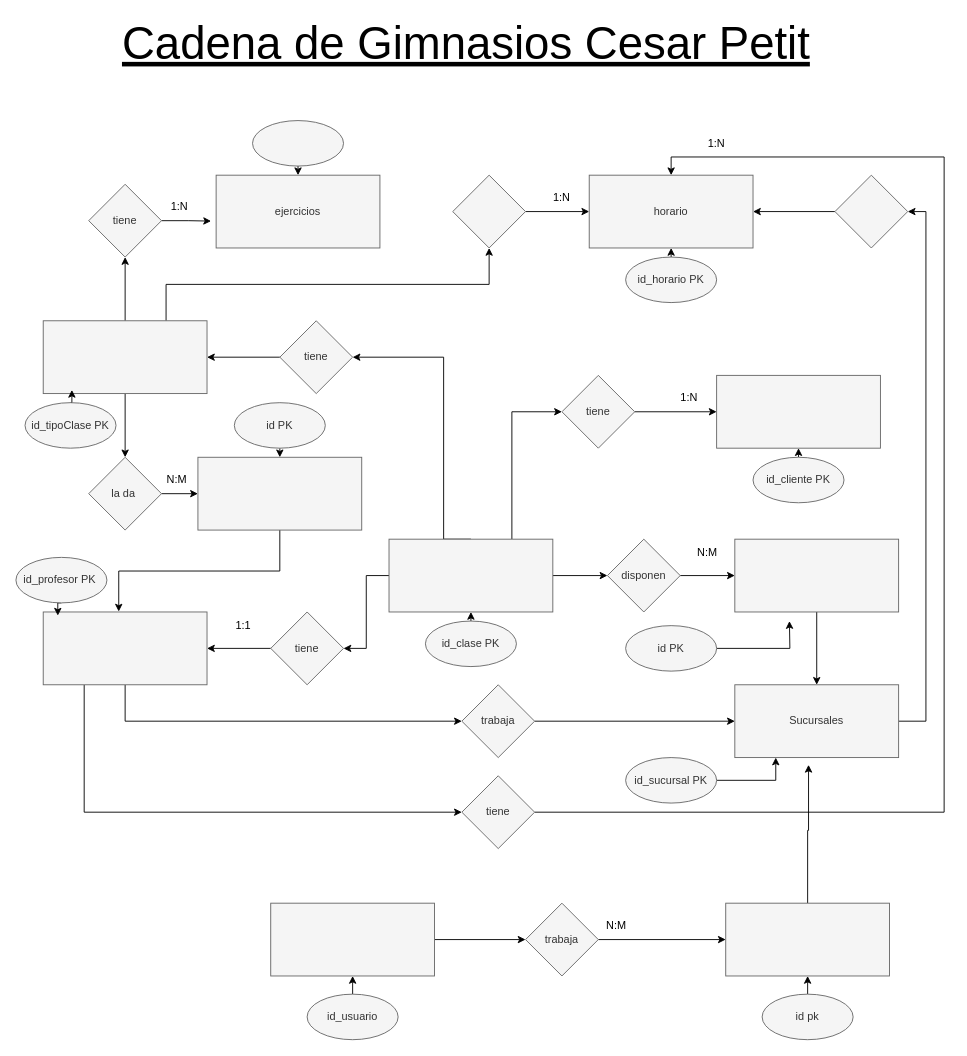
This 967x1056 diagram has some shape labels left out. The box of each missing label's shape, as (x1, y1, x2, y2) in pixels:
clase: (388, 538, 553, 612)
cliente: (716, 374, 880, 448)
id_ejecrcicio PK: (252, 120, 344, 166)
profesores: (42, 611, 207, 685)
se da: (452, 174, 526, 248)
Sucursales/clases: (734, 538, 899, 612)
tiene distintos: (834, 174, 908, 248)
tipo clase: (42, 320, 207, 394)
tipo clase/Profesores: (197, 456, 362, 530)
usuario: (270, 902, 435, 976)
usuario_sucursal: (725, 902, 890, 976)
